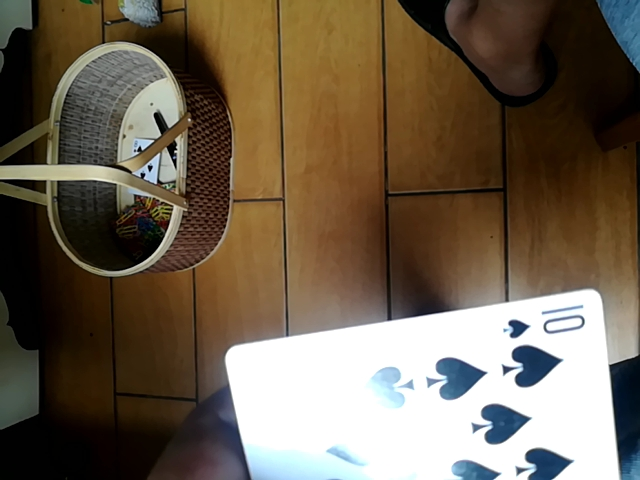ht 10: (230, 290, 619, 477)
